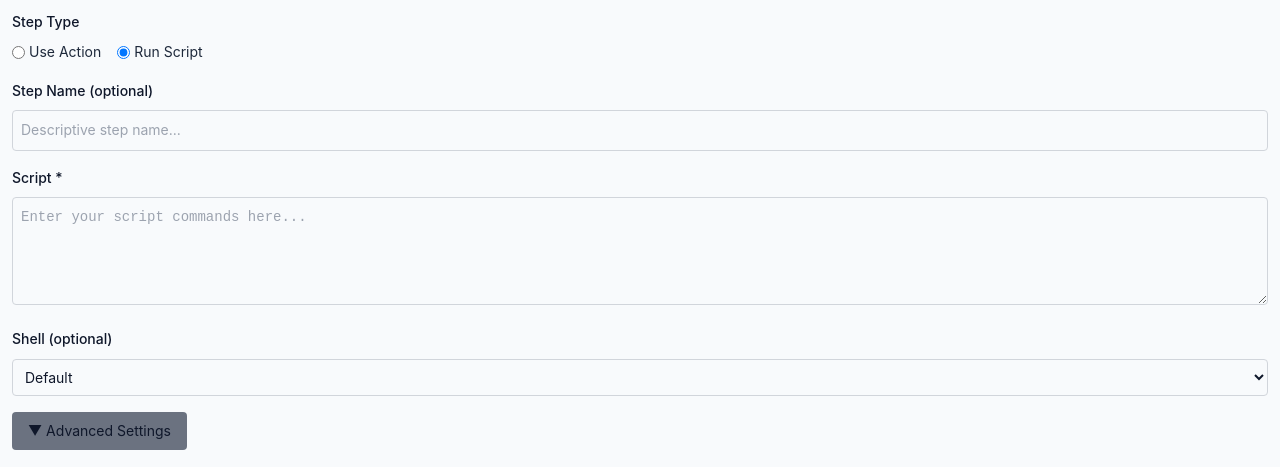
StepFields imported actions › filters the menu by group and never shows an action in two groups at once
Click the radio button named "Use Action": {"x": 18, "y": 53} [12,46,25,59]
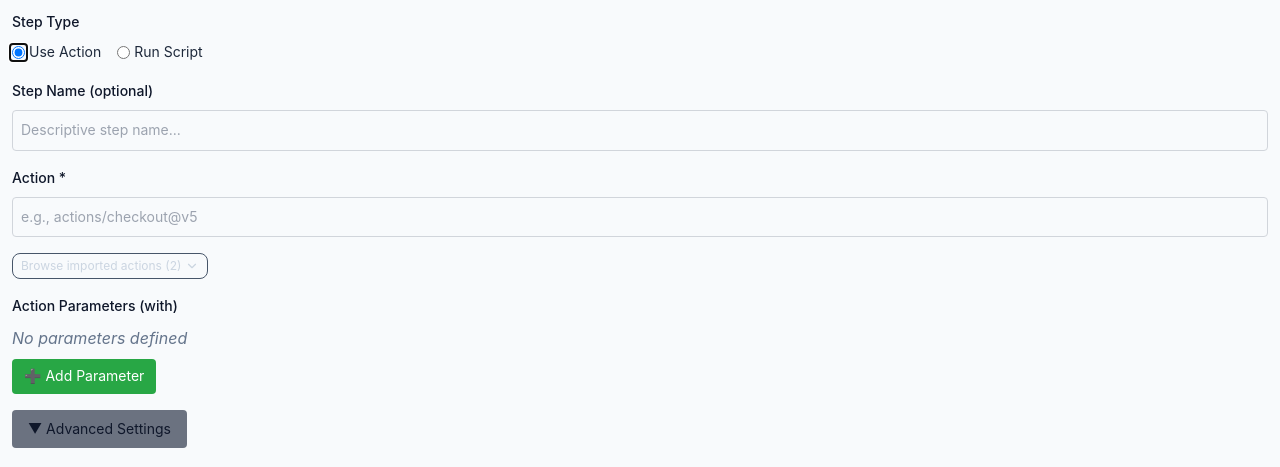
Click the button "Browse imported actions (2)": {"x": 110, "y": 266} [12,253,208,279]
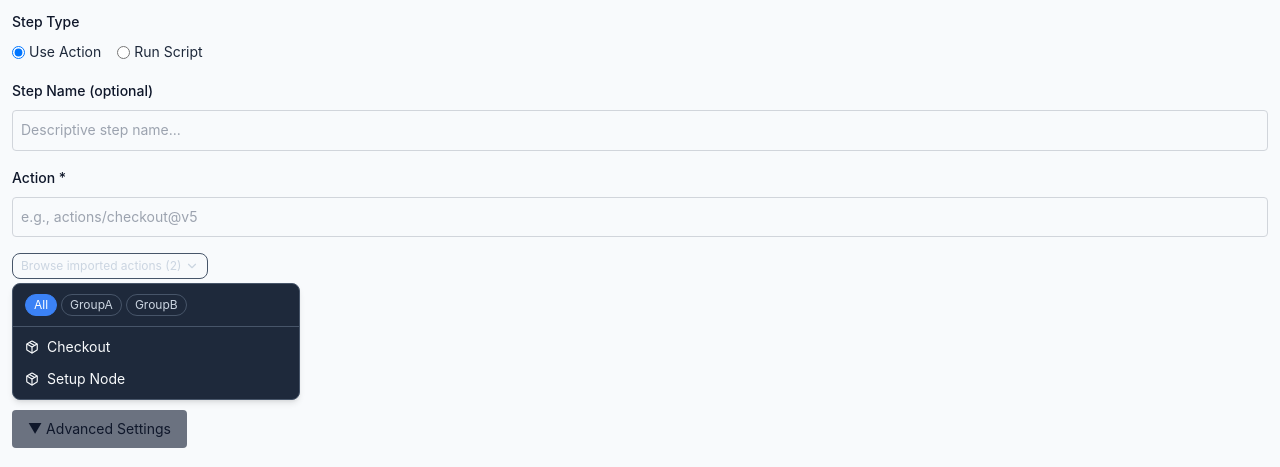
Check: the number of menu items "Checkout" is 1, box [25,338,110,355]
Check: the menu item "Setup Node" is shown, box [25,370,125,387]
Click the button "GroupA": {"x": 92, "y": 305} [61,294,122,316]
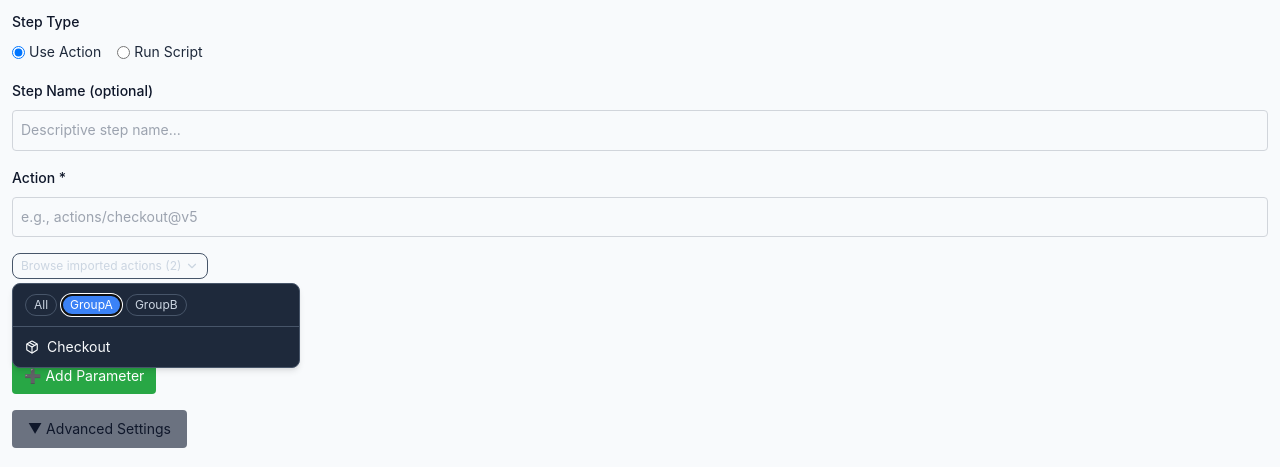
Check: the number of menu items "Checkout" is 1, box [25,338,110,355]
Check: the menu item "Setup Node" is gone
Click the button "GroupB": {"x": 156, "y": 305} [126,294,187,316]
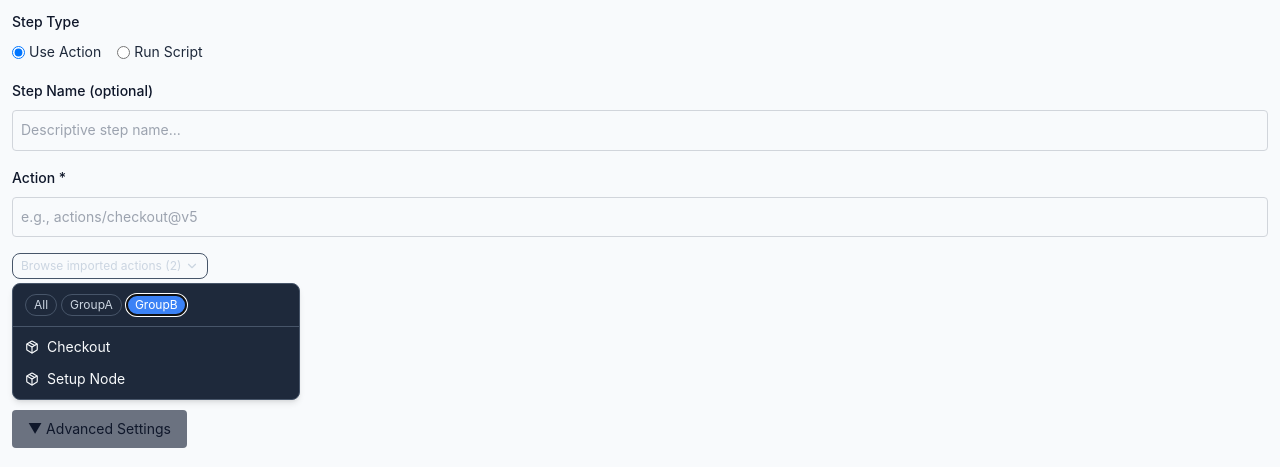
Check: the number of menu items "Checkout" is 1, box [25,338,110,355]
Check: the menu item "Setup Node" is shown, box [25,370,125,387]
